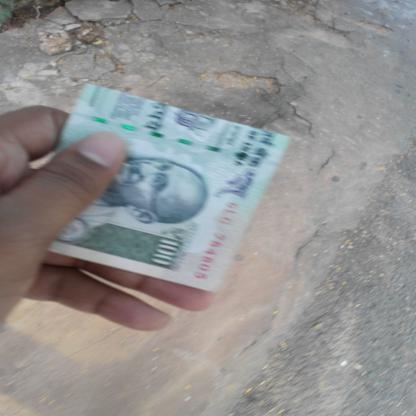Old100Front: (44, 82, 292, 293)
